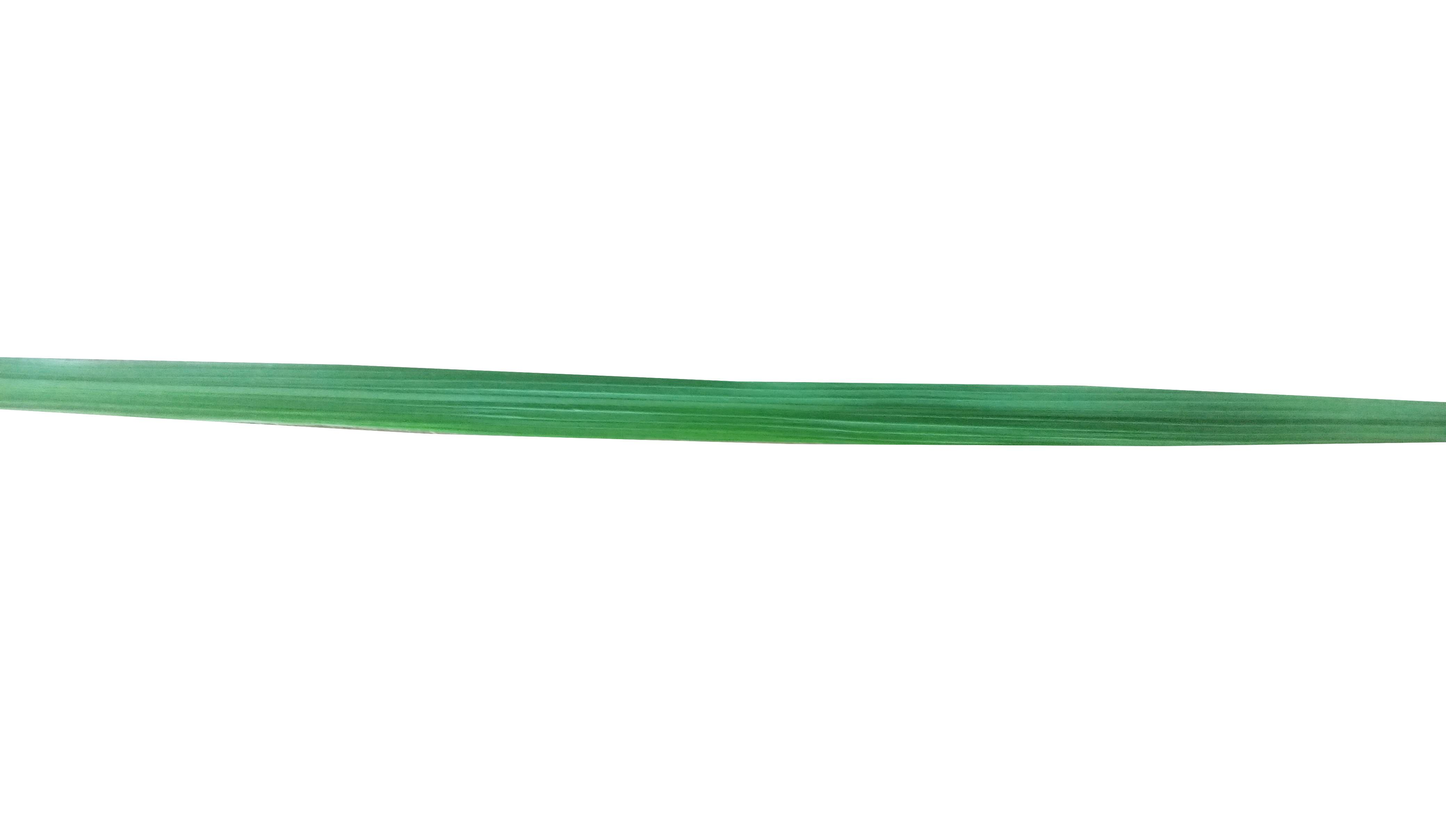Healthy: (0, 358, 1446, 448)
